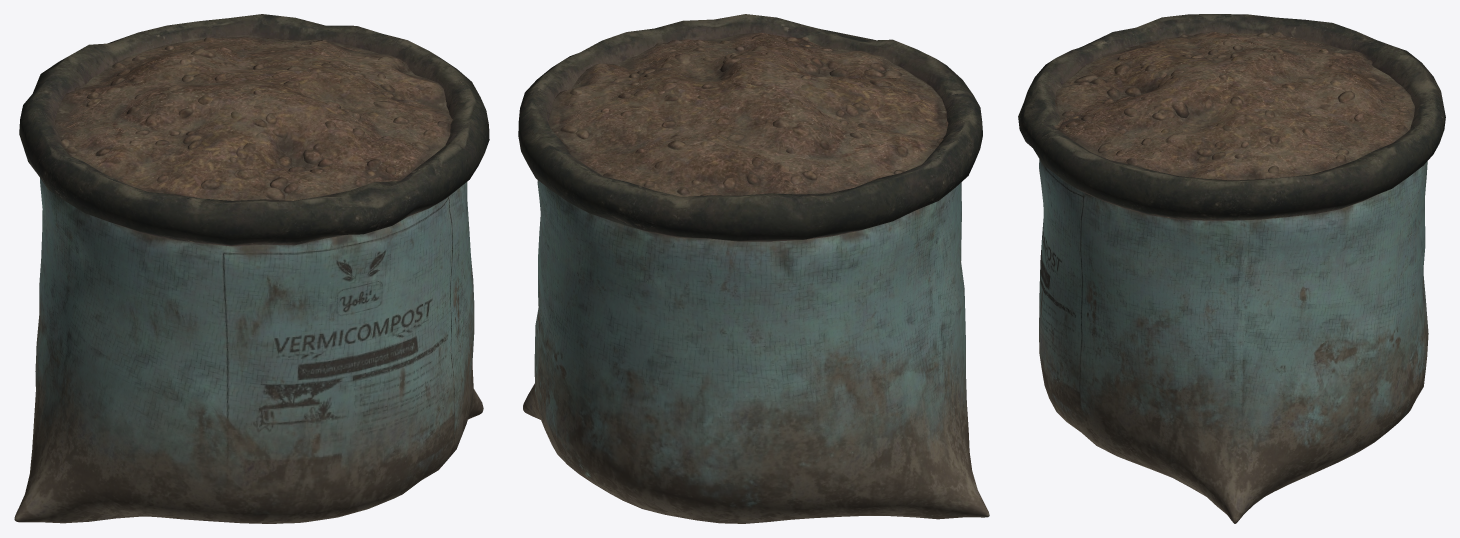
The model's file is compost_bag_02_1k.gltf.
3 views of the same model, side by side, from view 1: azimuth 30°, elevation 25°; view 2: azimuth 150°, elevation 25°; view 3: azimuth 270°, elevation 25° (orthographic). The views are drawn at different scales.
Parts seen in each view (by area): view 1: compost_bag_02; view 2: compost_bag_02; view 3: compost_bag_02.
Part boxes in pixels (box(x1,y1,x2,y2)): compost_bag_02: box(14, 14, 489, 523); compost_bag_02: box(518, 14, 989, 523); compost_bag_02: box(1018, 14, 1445, 523).
Bounding box in the file's own units: 0.5393 × 0.4337 × 0.4705.
1 material, 1 textured.
